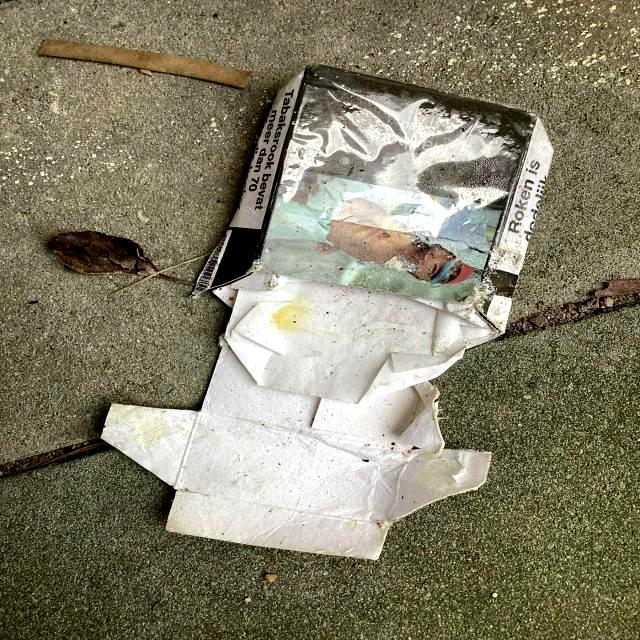Paper: (89, 61, 562, 566)
